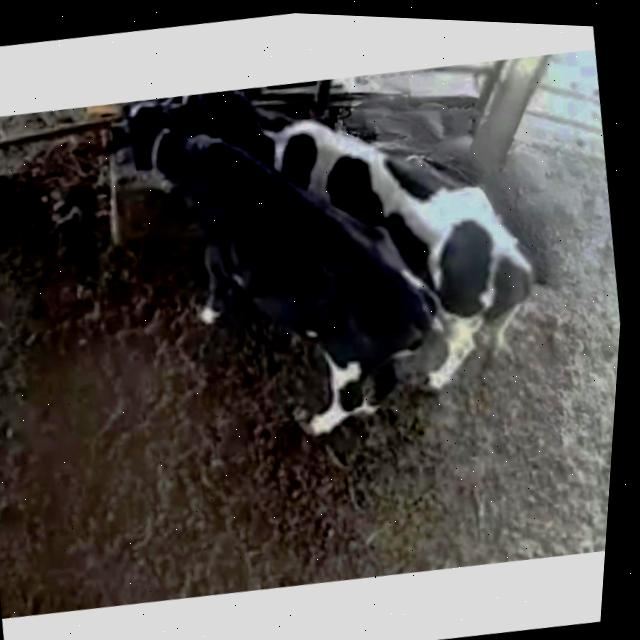drink: (98, 83, 266, 254), (193, 71, 359, 186)
